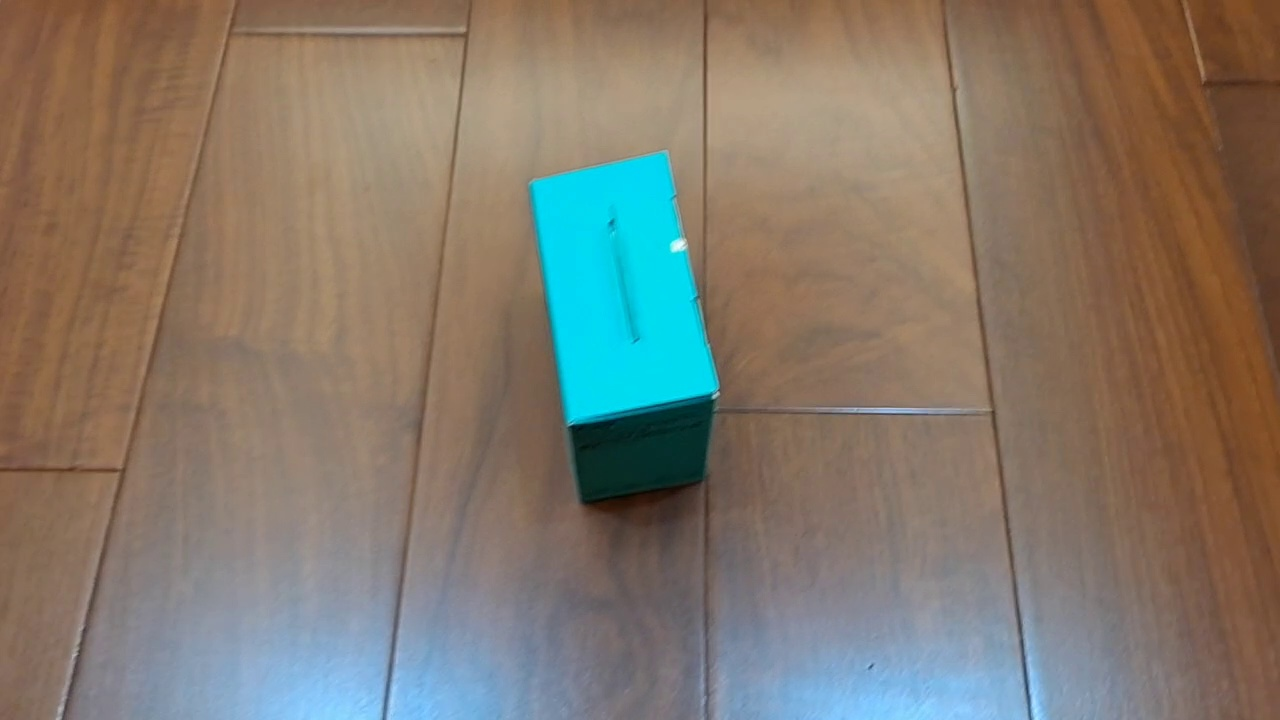webcam: (526, 149, 721, 504)
